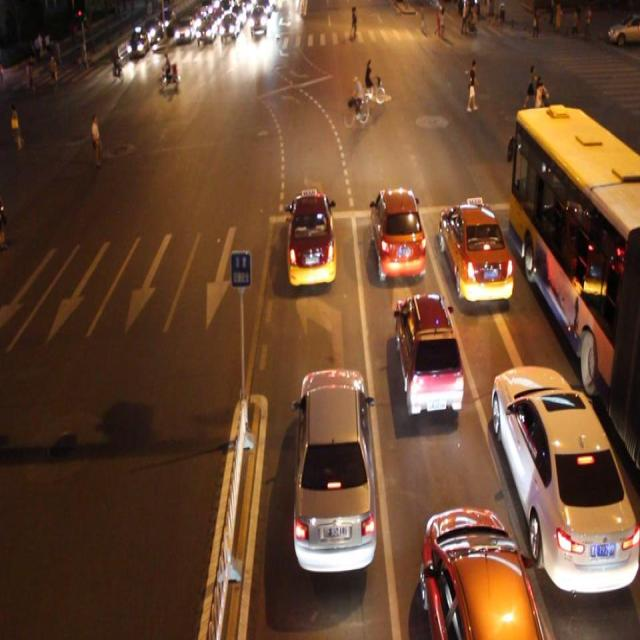car: (492, 364, 640, 597), (293, 366, 374, 576), (420, 503, 542, 640), (394, 292, 463, 413), (439, 199, 512, 304), (370, 184, 426, 279), (286, 188, 336, 287)
van: (512, 101, 640, 469)
